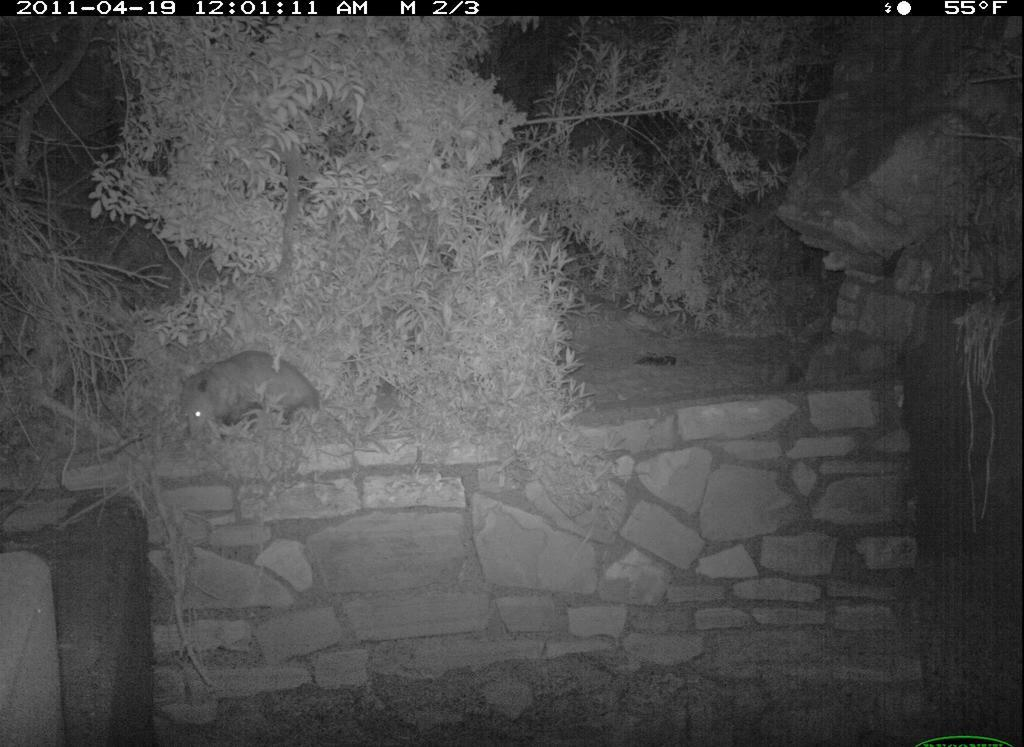opossum: (171, 349, 338, 445)
